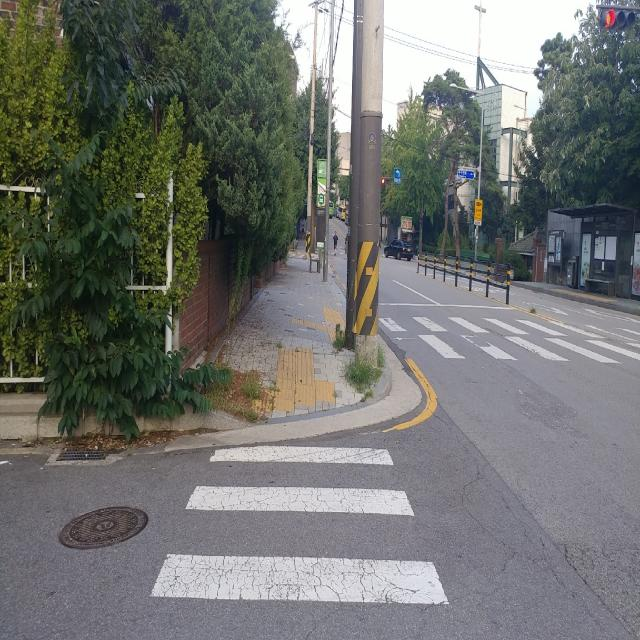횡단보도: (149, 445, 450, 605)
